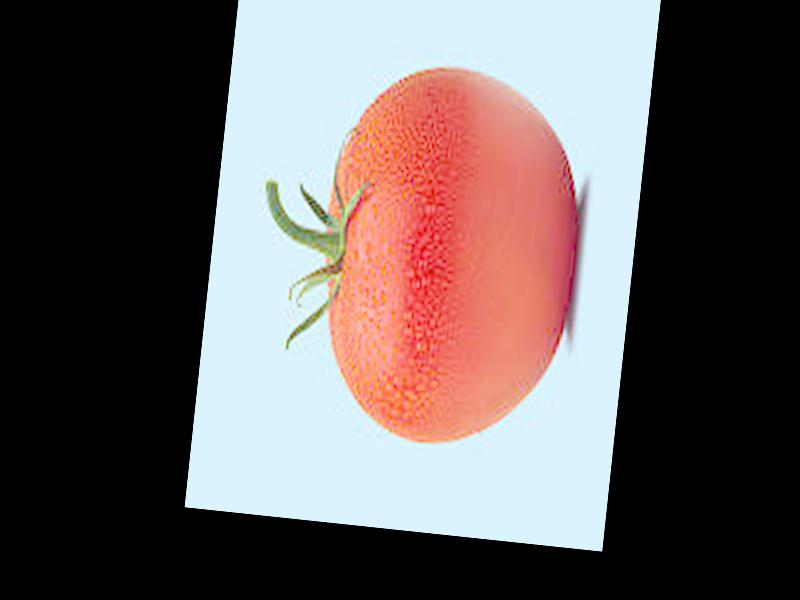Tomato: (307, 57, 590, 457)
